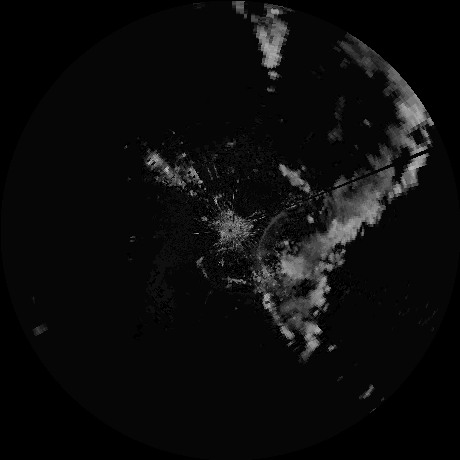frontgust: (257, 209, 286, 268)
